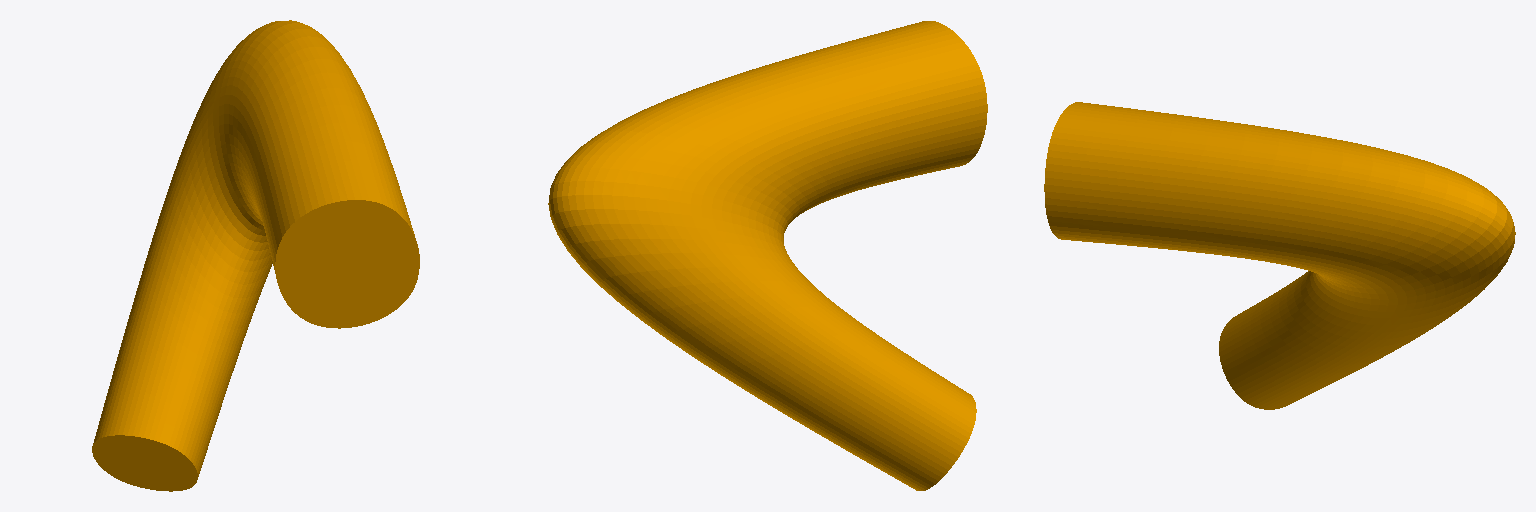
URDF robot description (object):
<robot name="object">
  <link name="object">
    <visual>
      <origin xyz="0 0 0"/>
      <geometry>
        <mesh filename="visual.obj" scale="1 1 1"/>
      </geometry>
    </visual>
    <collision>
      <origin xyz="0 0 0"/>
      <geometry>
        <mesh filename="collision.obj" scale="1 1 1"/>
      </geometry>
    </collision>
    <inertial>
      <mass value="0.05"/>
      <inertia ixx="5.336280881440005e-05" iyy="3.345051934072383e-05" izz="4.505759993608589e-05" ixy="-6.964661641021523e-06" ixz="-1.0658084374922758e-05" iyz="5.554787518464438e-06"/>
    </inertial>
  </link>
</robot>

--- What the picture shows (computed from the rendered views, not written in the file) ---
Views: 3 orthographic renders of the robot side by side, from view 1: azimuth 30°, elevation 25°; view 2: azimuth 150°, elevation 25°; view 3: azimuth 270°, elevation 25°.
Model object with 1 links and 0 joints (none), rooted at object, posed all joints at 0.
Visible links, largest first — view 1: object; view 2: object; view 3: object.
Link boxes in pixels (x1,y1,x2,y2): object: (92,20,419,491); object: (548,21,987,490); object: (1044,102,1515,409).
Bounding box of the posed robot: 0.081 × 0.1099 × 0.0887 m (x, y, z).
1 mesh visuals loaded from 1 distinct referenced files (1 OBJ).
